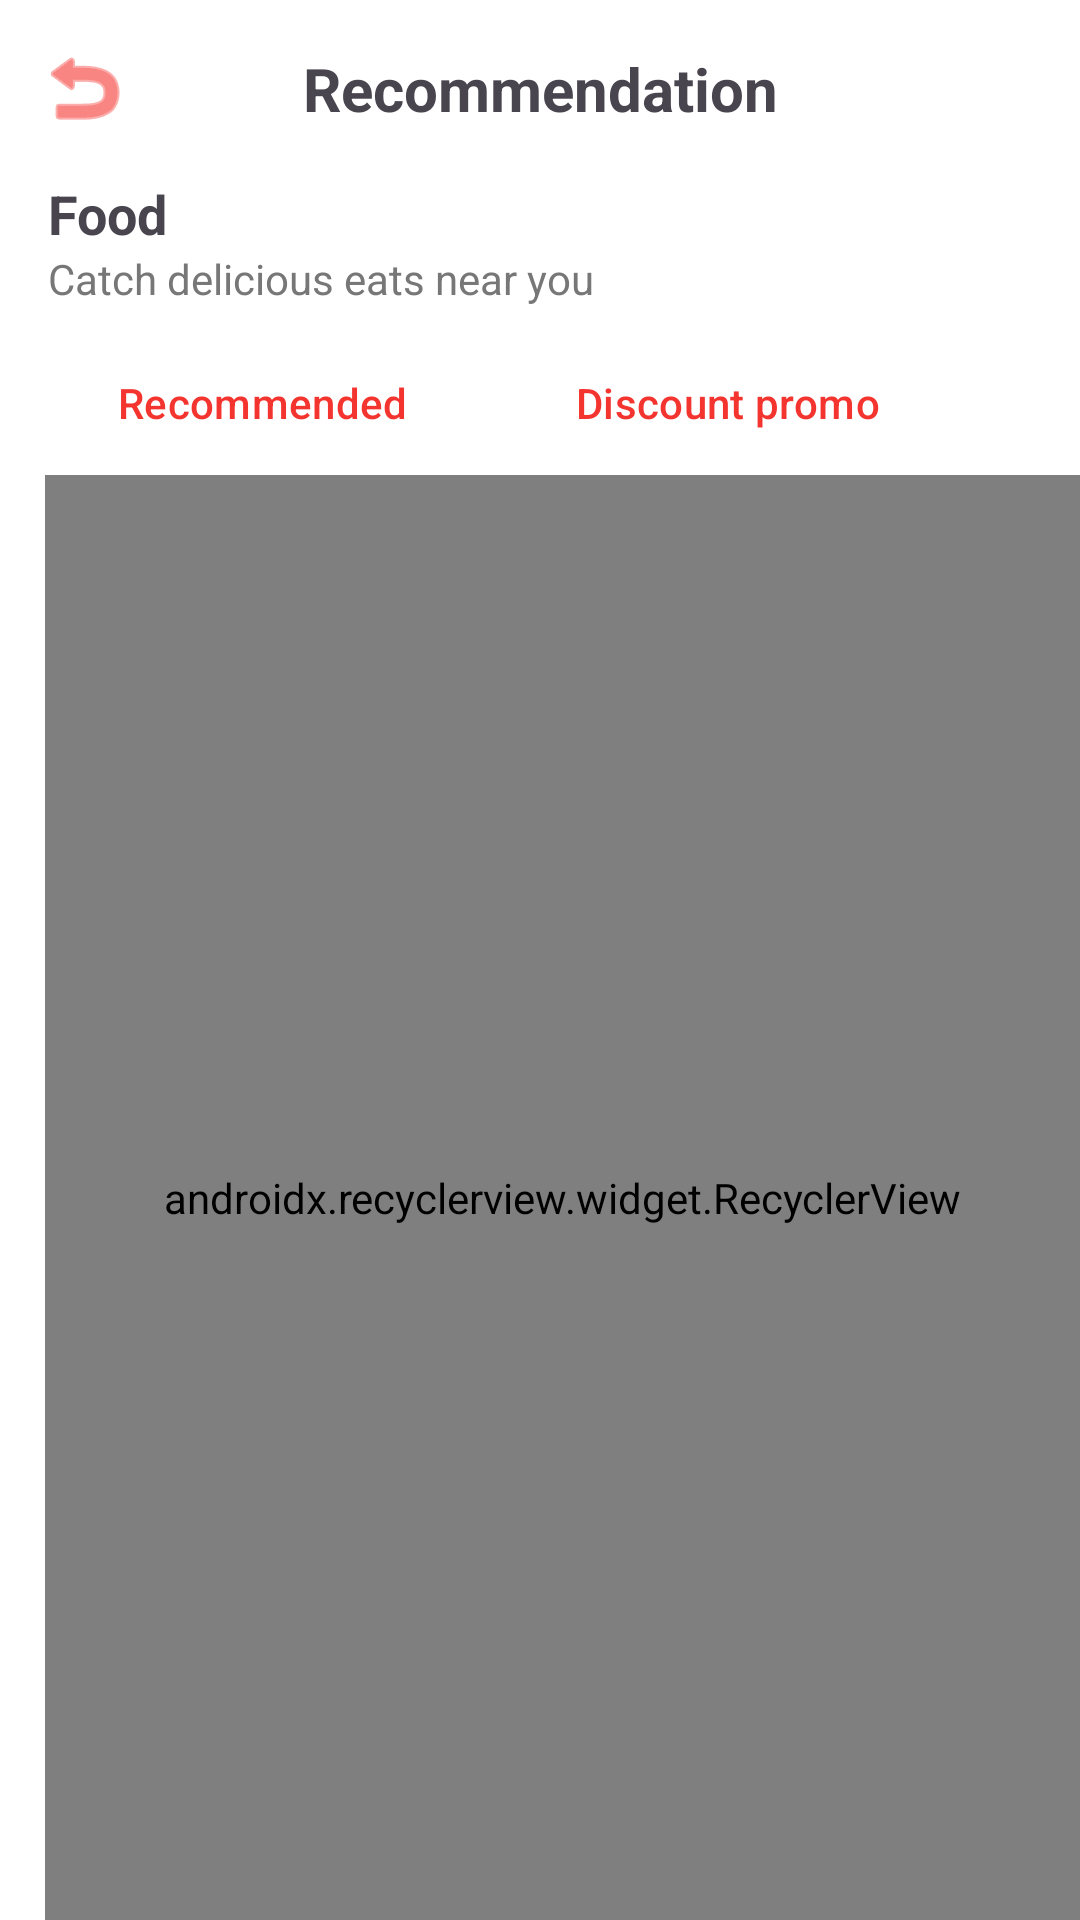

Screen size 1080×1920. Icon name, then its box in pixels as region(x1, y1, x2, y2):
revert: region(51, 57, 120, 120)
